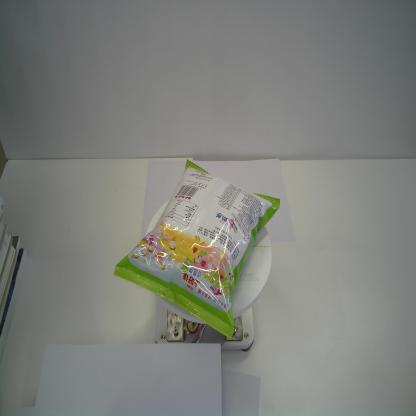Puffed Food: (113, 158, 281, 340)
